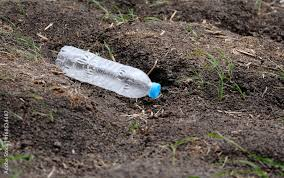plastic_bottle: (53, 45, 161, 99)
